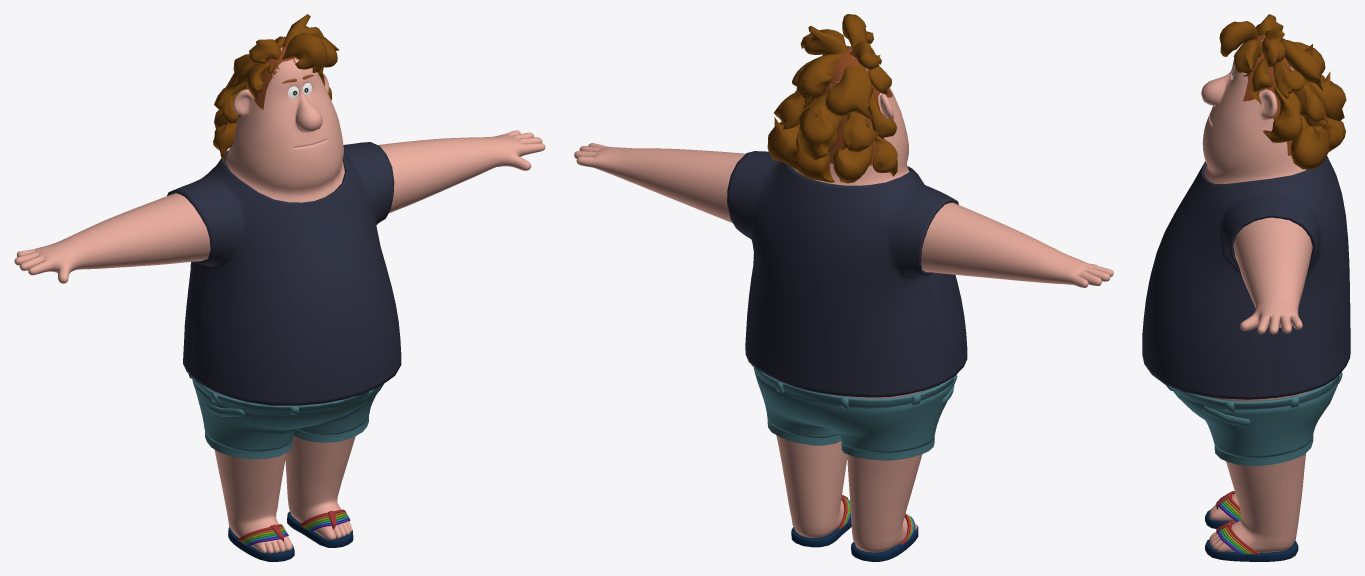
File: r84-phil-audition.glb
3 renders of one model, left to right at view 1: azimuth 30°, elevation 25°; view 2: azimuth 150°, elevation 25°; view 3: azimuth 270°, elevation 25°, orthographic. The views are drawn at different scales.
Visible parts, largest first — view 1: R84_AUDITION_GEO_GEO-phil_shirt, R84_AUDITION_GEO_GEO-phil_arms, R84_AUDITION_GEO_GEO-phil_head, R84_AUDITION_GEO_GEO-phil_body, R84_AUDITION_GEO_GEO-phil_pants, R84_AUDITION_GEO_GEO-phil_hair.groom_base, R84_AUDITION_GEO_GEO-phil_flippers, R84_AUDITION_GEO_GEO-phil_shorts_fray; view 2: R84_AUDITION_GEO_GEO-phil_shirt, R84_AUDITION_GEO_GEO-phil_arms, R84_AUDITION_GEO_GEO-phil_hair.groom_base, R84_AUDITION_GEO_GEO-phil_body, R84_AUDITION_GEO_GEO-phil_pants, R84_AUDITION_GEO_GEO-phil_head, R84_AUDITION_GEO_GEO-phil_flippers, R84_AUDITION_GEO_GEO-phil_shorts_fray, R84_AUDITION_GEO_GEO-phil_hair.scalp; view 3: R84_AUDITION_GEO_GEO-phil_shirt, R84_AUDITION_GEO_GEO-phil_hair.groom_base, R84_AUDITION_GEO_GEO-phil_head, R84_AUDITION_GEO_GEO-phil_pants, R84_AUDITION_GEO_GEO-phil_arms, R84_AUDITION_GEO_GEO-phil_body, R84_AUDITION_GEO_GEO-phil_flippers, R84_AUDITION_GEO_GEO-phil_shorts_fray, R84_AUDITION_GEO_GEO-phil_hair.scalp.
Part boxes in pixels (x1,y1,x2,y2): R84_AUDITION_GEO_GEO-phil_shirt: (167,142,401,405); R84_AUDITION_GEO_GEO-phil_arms: (14,130,545,283); R84_AUDITION_GEO_GEO-phil_head: (225,48,344,202); R84_AUDITION_GEO_GEO-phil_body: (214,436,355,553); R84_AUDITION_GEO_GEO-phil_pants: (188,373,383,451); R84_AUDITION_GEO_GEO-phil_hair.groom_base: (213,14,339,160); R84_AUDITION_GEO_GEO-phil_flippers: (228,509,353,561); R84_AUDITION_GEO_GEO-phil_shorts_fray: (205,415,368,459); R84_AUDITION_GEO_GEO-phil_shirt: (727,151,967,397); R84_AUDITION_GEO_GEO-phil_arms: (574,143,1113,287); R84_AUDITION_GEO_GEO-phil_hair.groom_base: (767,14,897,183); R84_AUDITION_GEO_GEO-phil_body: (776,387,932,552); R84_AUDITION_GEO_GEO-phil_pants: (751,364,957,452); R84_AUDITION_GEO_GEO-phil_head: (792,50,909,185); R84_AUDITION_GEO_GEO-phil_flippers: (791,495,918,561); R84_AUDITION_GEO_GEO-phil_shorts_fray: (767,420,934,460); R84_AUDITION_GEO_GEO-phil_hair.scalp: (816,46,892,165); R84_AUDITION_GEO_GEO-phil_shirt: (1142,156,1350,399); R84_AUDITION_GEO_GEO-phil_hair.groom_base: (1219,14,1346,169); R84_AUDITION_GEO_GEO-phil_head: (1201,35,1306,184); R84_AUDITION_GEO_GEO-phil_pants: (1166,372,1342,458); R84_AUDITION_GEO_GEO-phil_arms: (1233,217,1312,334); R84_AUDITION_GEO_GEO-phil_body: (1203,389,1314,552); R84_AUDITION_GEO_GEO-phil_flippers: (1205,491,1298,561); R84_AUDITION_GEO_GEO-phil_shorts_fray: (1214,435,1313,465); R84_AUDITION_GEO_GEO-phil_hair.scalp: (1243,35,1304,155).
Size of the model in its own units: 1.7 by 1.58 by 0.5731.
